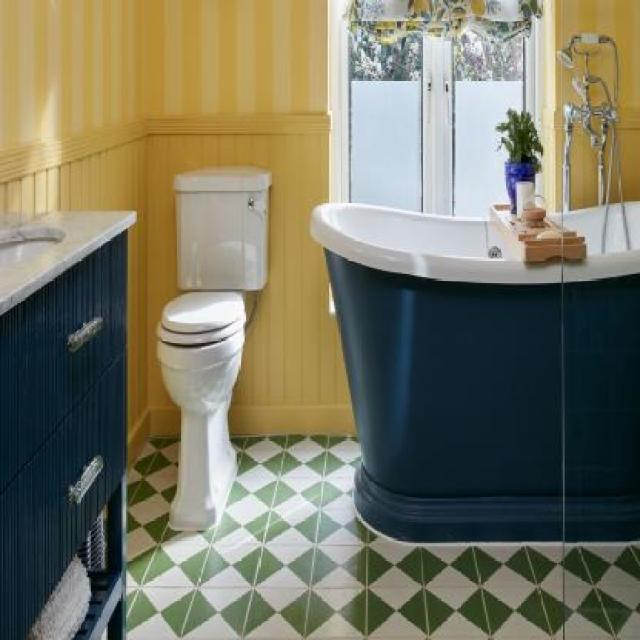floor: (125, 434, 640, 640)
